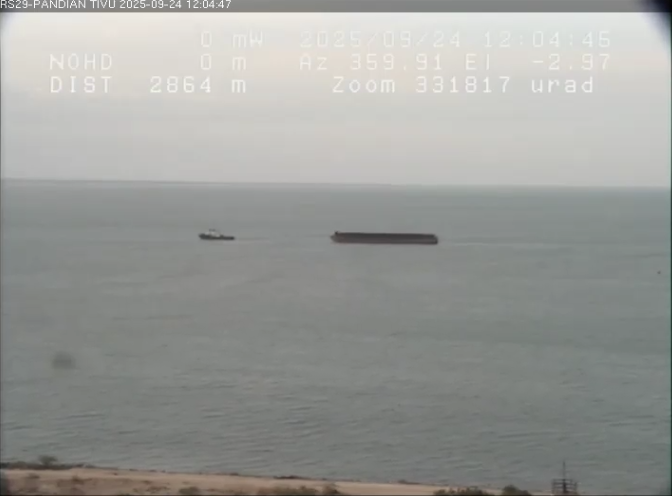BARGE: (318, 222, 446, 247)
OFFSHORE_SUPPLY_VESSEL: (176, 225, 249, 251)
TOWING: (151, 191, 479, 279)
